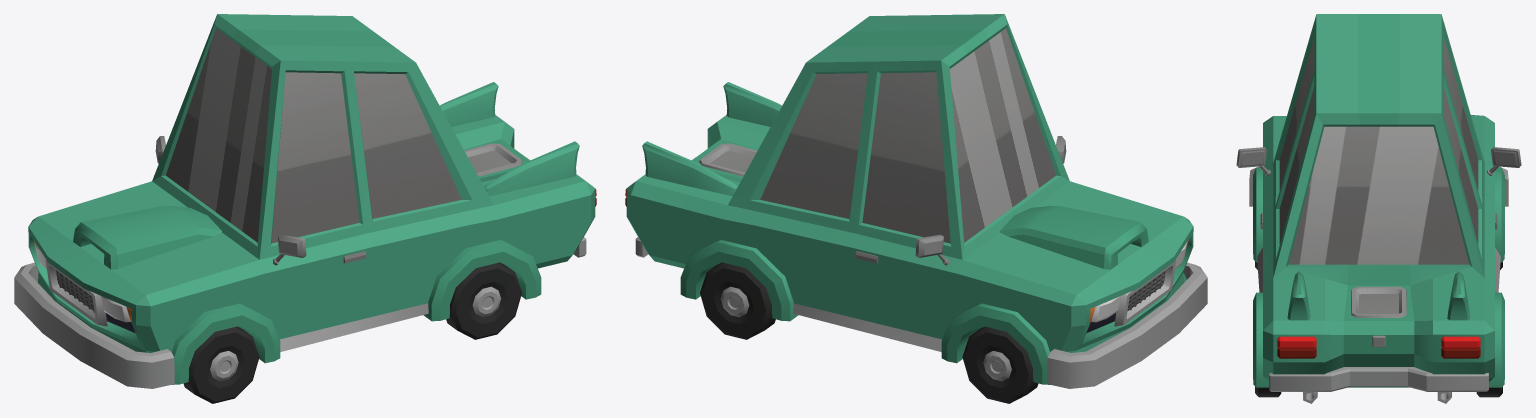
Rendered from Car_11_K.gltf.
The picture shows the model from 3 angles, left to right: view 1: azimuth 30°, elevation 25°; view 2: azimuth 150°, elevation 25°; view 3: azimuth 270°, elevation 25°; orthographic projection.
Parts seen in each view (by area): view 1: Car_11_K, RL, FL; view 2: Car_11_K, RR, FR; view 3: Car_11_K.
Boxes of the visible parts, x1,y1,x2,y2 form: Car_11_K: [14, 14, 596, 388]; RL: [446, 262, 521, 339]; FL: [183, 326, 259, 403]; Car_11_K: [625, 14, 1207, 388]; RR: [700, 262, 775, 339]; FR: [962, 326, 1038, 403]; Car_11_K: [1236, 14, 1521, 403].
Bounding box in the file's own units: 3.58 × 2.1 × 1.85.
Materials: 3 (3 with a texture image).
